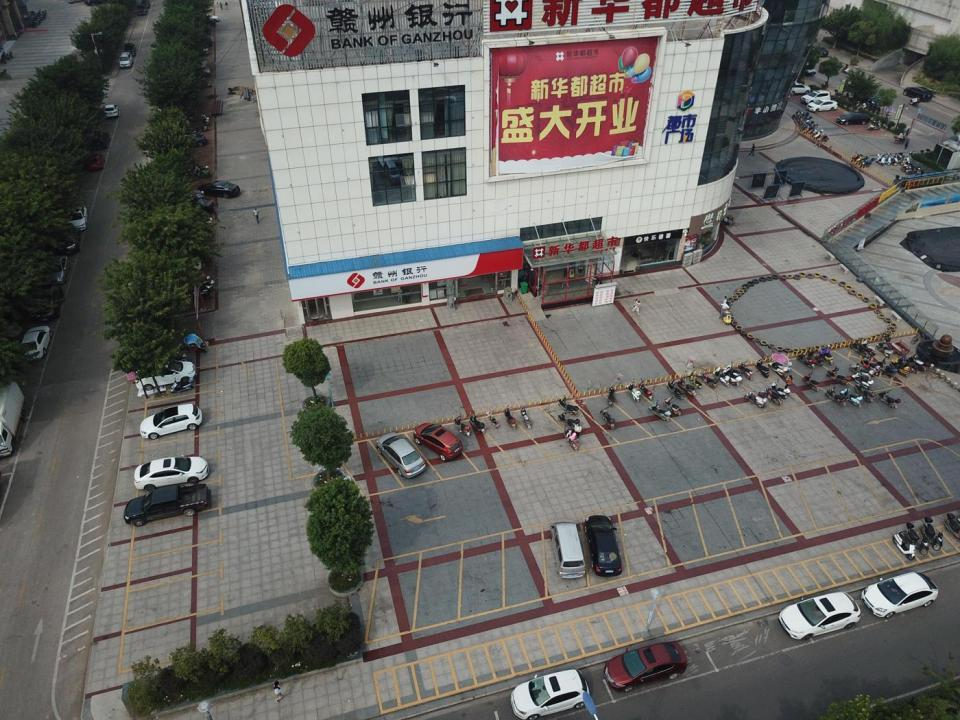car: (604, 640, 687, 692), (780, 592, 862, 642), (510, 667, 589, 717), (862, 573, 938, 617), (134, 457, 209, 491), (139, 402, 203, 439), (376, 432, 426, 479), (584, 515, 621, 575), (412, 422, 463, 463), (134, 359, 197, 390), (21, 325, 52, 360), (34, 286, 65, 319), (44, 255, 71, 286), (55, 224, 81, 255), (198, 180, 240, 198), (65, 204, 89, 231), (855, 89, 883, 108), (176, 132, 206, 148), (184, 196, 214, 212), (903, 86, 933, 102), (168, 259, 202, 272), (837, 112, 870, 125), (172, 188, 204, 201), (806, 99, 837, 112), (801, 90, 831, 103), (783, 83, 811, 95), (92, 131, 110, 149), (807, 44, 828, 57), (88, 154, 104, 170), (102, 104, 119, 118), (190, 45, 209, 56), (194, 18, 217, 26), (191, 65, 210, 74), (198, 14, 219, 21), (140, 0, 151, 8), (866, 104, 877, 110), (872, 106, 881, 113), (863, 103, 873, 109)
truck: (123, 483, 212, 526), (0, 379, 25, 459), (124, 42, 136, 57), (136, 5, 147, 16)
van: (549, 520, 586, 580), (784, 57, 816, 75), (120, 51, 132, 68)
